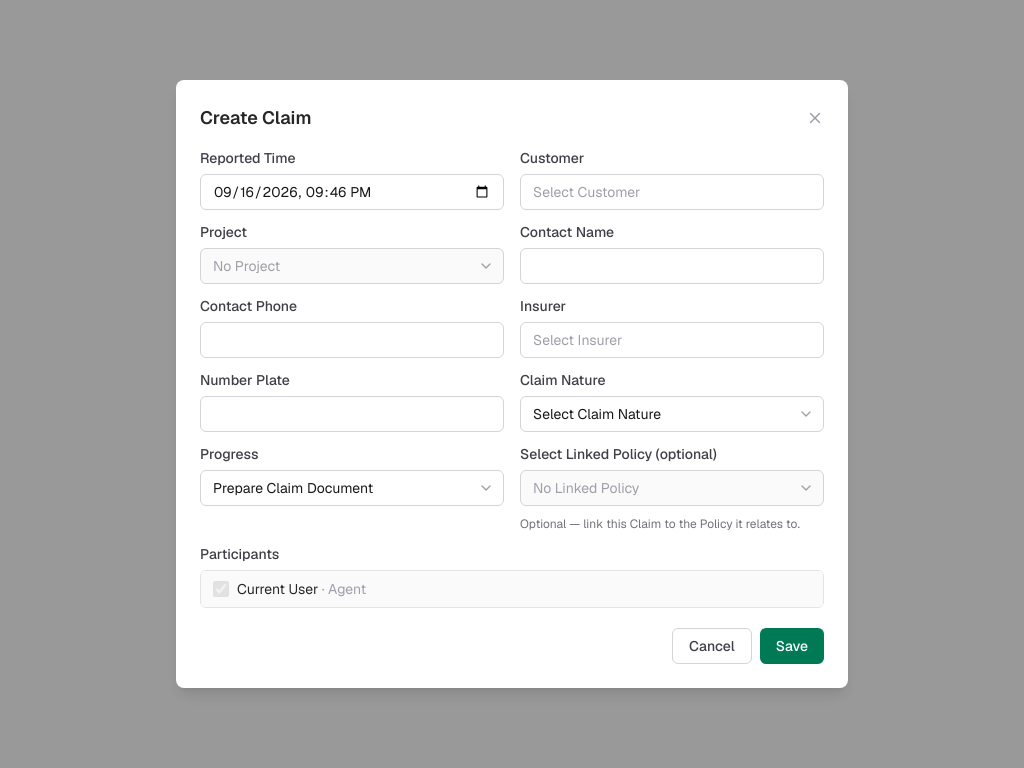
MotorClaimFormModal — Customer SearchableSelect › Case 6/7: selecting a Customer sets the displayed value and scopes Project to that Customer only
Type "jiang" into the field with placeholder "Select Customer". click: (672, 192)
box: top-left (520, 174), bottom-right (824, 210)
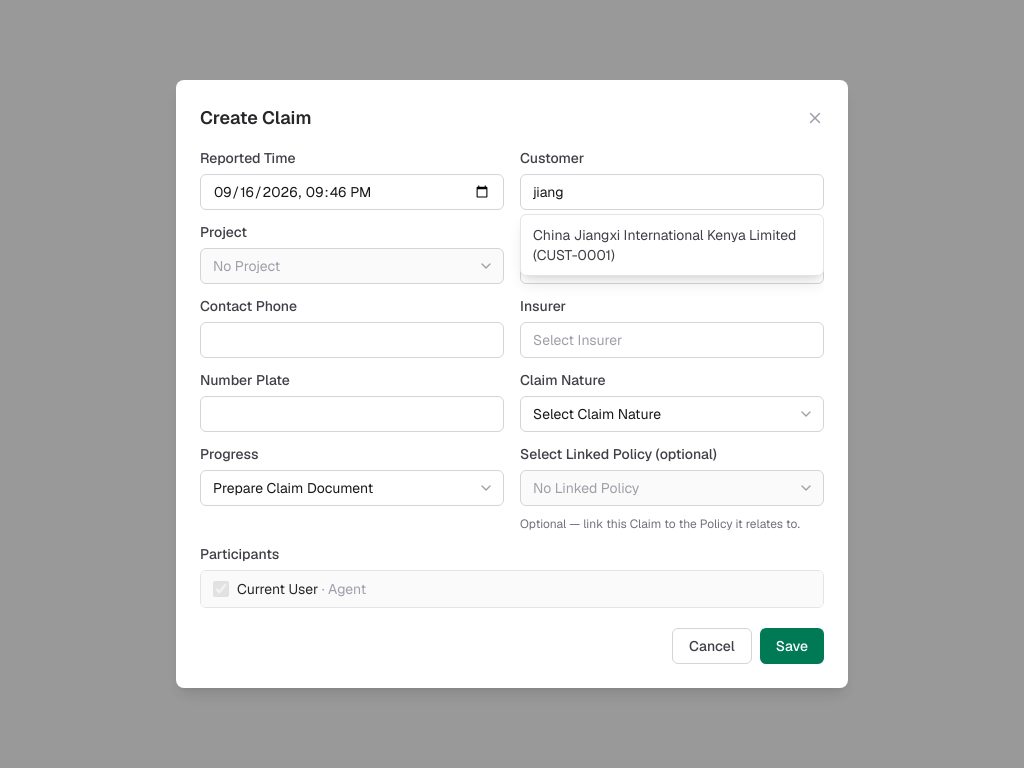
Press the mouse on the button "China Jiangxi International Kenya Limited (CUST-0001)" at (672, 245), box top-left (521, 219), bottom-right (823, 271)
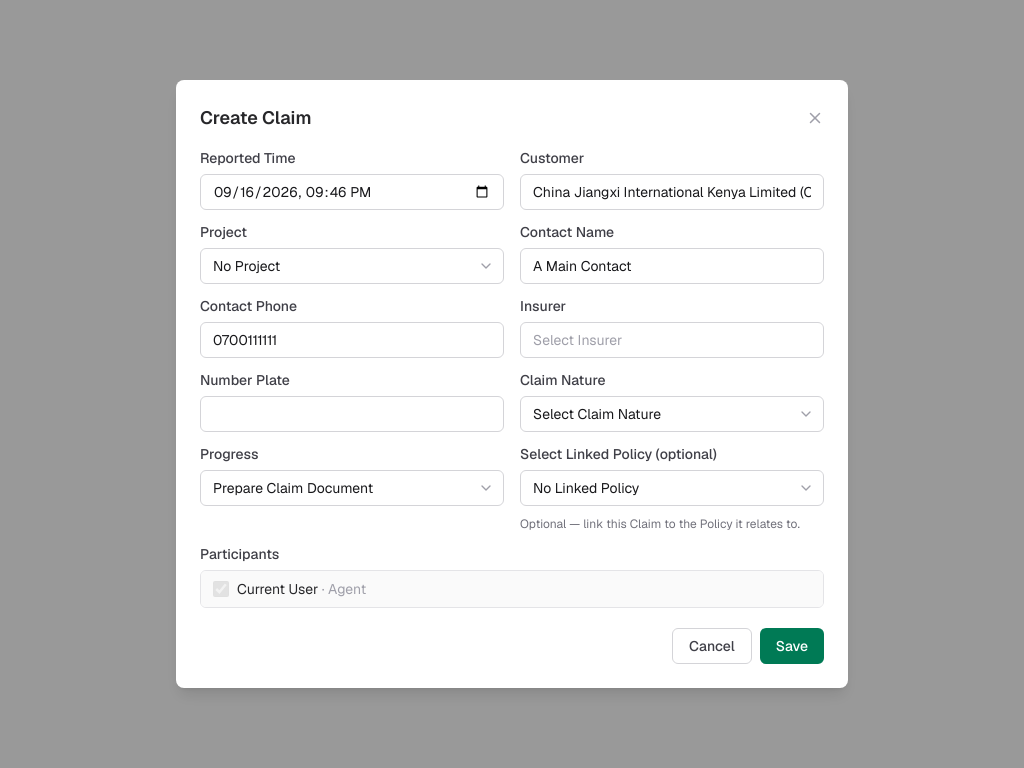
Check: the field showing "China Jiangxi International Kenya Limited (CUST-0001)" below "Customer" is shown, box top-left (520, 174), bottom-right (824, 210)
